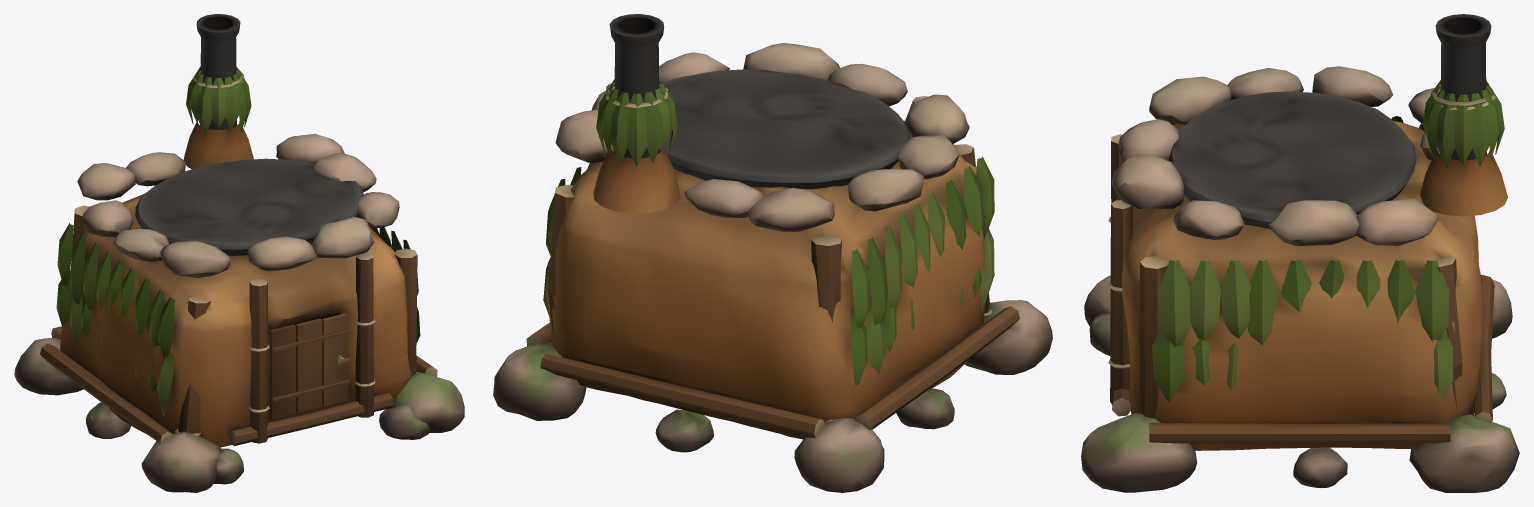
Rendered from building-betterStove-carve.glb.
3 views of the same model, side by side, from view 1: azimuth 30°, elevation 25°; view 2: azimuth 150°, elevation 25°; view 3: azimuth 270°, elevation 25° (orthographic). The views are drawn at different scales.
Parts seen in each view (by area): view 1: 0_betterStove; view 2: 0_betterStove; view 3: 0_betterStove.
Part boxes in pixels (bbox=[...]): 0_betterStove: bbox=[14, 14, 464, 492]; 0_betterStove: bbox=[493, 14, 1052, 492]; 0_betterStove: bbox=[1081, 14, 1519, 492].
Bounding box in the file's own units: 2 × 1.99 × 1.97.
